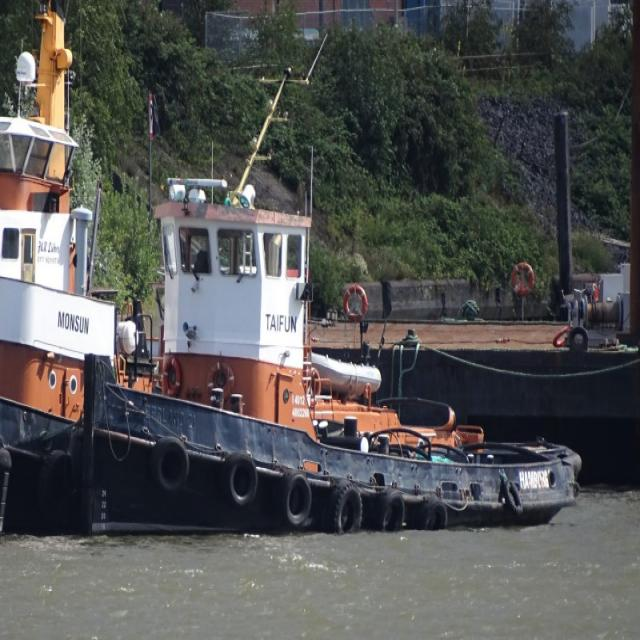tugboat: (78, 166, 585, 554)
